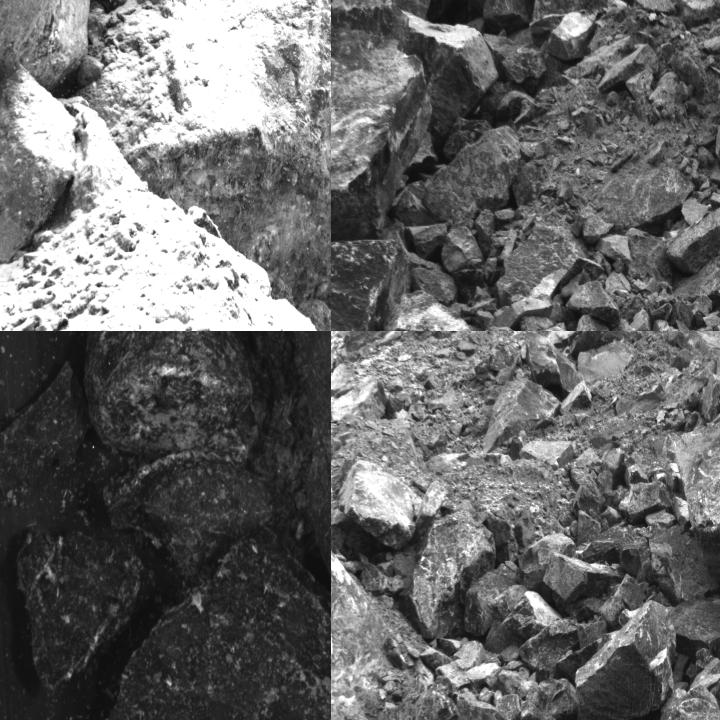stone: (90, 546, 330, 719), (105, 443, 308, 576), (88, 331, 270, 461), (331, 0, 428, 240), (14, 523, 145, 683), (0, 63, 76, 284), (402, 512, 495, 642), (575, 601, 676, 719), (496, 214, 606, 306), (572, 163, 696, 244), (422, 129, 520, 228), (331, 231, 411, 330), (676, 405, 719, 581), (340, 459, 418, 541), (483, 379, 560, 458), (542, 552, 624, 618), (648, 527, 718, 603), (574, 524, 656, 584), (524, 331, 585, 396), (380, 290, 479, 330), (519, 616, 577, 679), (666, 208, 719, 276), (531, 0, 607, 46), (672, 595, 719, 666), (504, 592, 563, 640), (565, 278, 620, 328), (442, 687, 520, 719), (619, 479, 673, 524), (546, 14, 595, 60), (532, 676, 581, 719), (649, 689, 719, 719), (483, 0, 533, 37), (483, 337, 519, 385), (418, 476, 450, 524), (574, 474, 603, 518), (415, 0, 466, 23), (560, 382, 593, 414), (575, 510, 603, 545)
